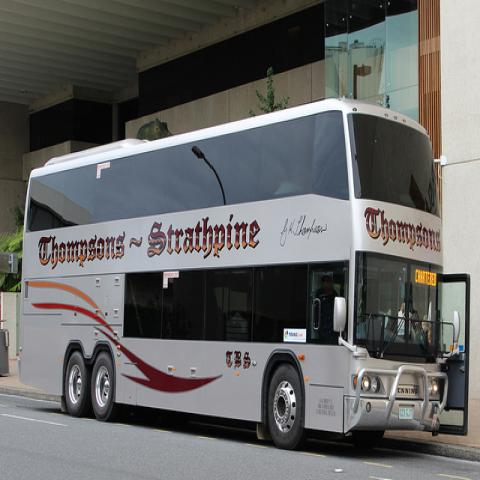bus: (17, 98, 472, 450)
